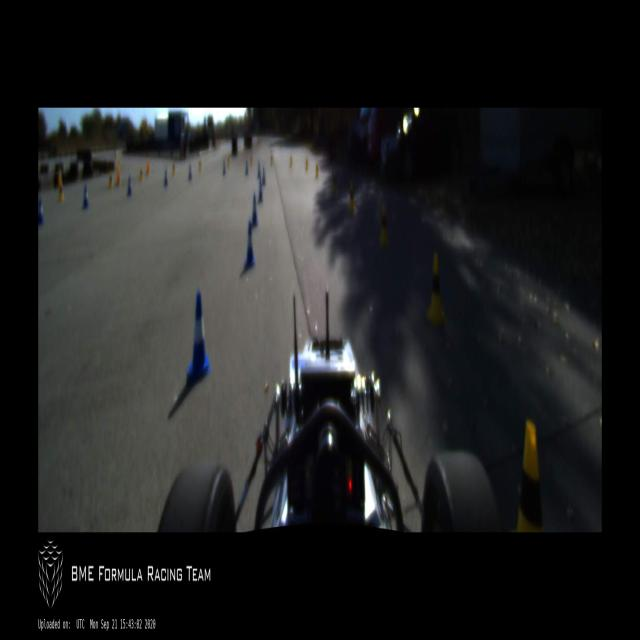blue_cone: (186, 294, 211, 383), (244, 222, 255, 268), (250, 195, 258, 228), (38, 199, 45, 226), (82, 186, 89, 209), (257, 179, 263, 203), (127, 178, 132, 196)
yellow_cone: (515, 420, 544, 532), (426, 252, 444, 326), (379, 205, 389, 248), (348, 184, 355, 213), (58, 181, 64, 201), (332, 172, 337, 194), (315, 160, 319, 178), (109, 172, 113, 188)
